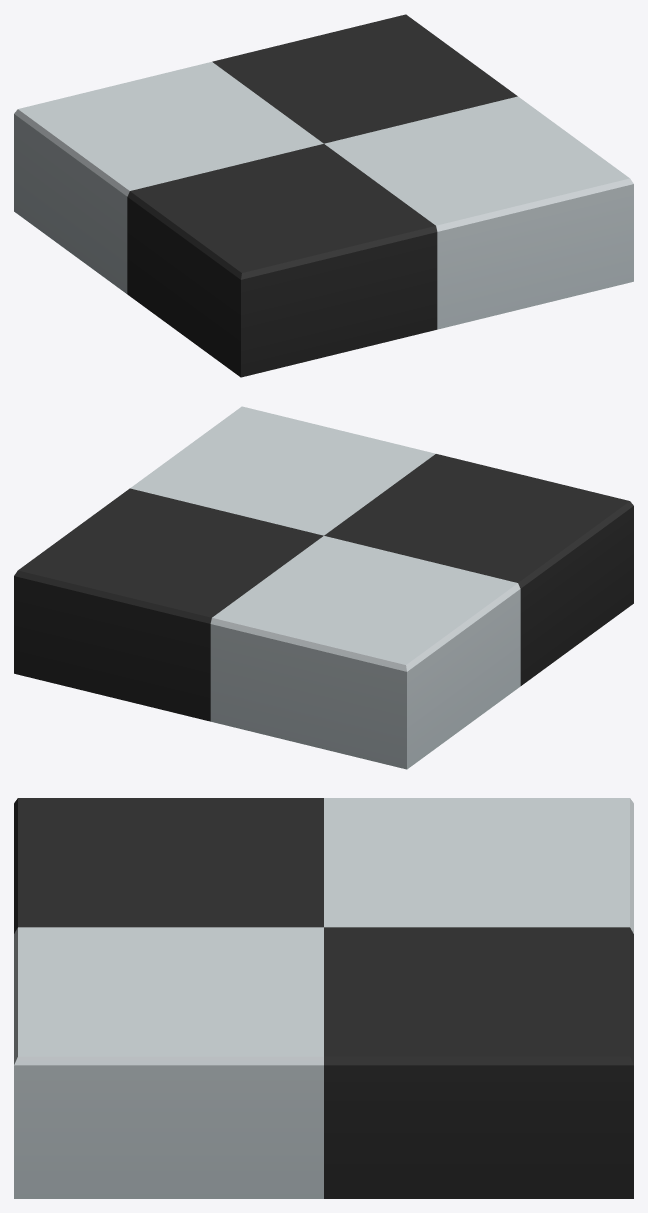
File: floor_kitchen_small.obj
3 views of the same model, one above another, from view 1: azimuth 30°, elevation 25°; view 2: azimuth 150°, elevation 25°; view 3: azimuth 270°, elevation 25° (orthographic). The views are drawn at different scales.
Visible parts, largest first — view 1: floor_kitchen_small_Plane.008; view 2: floor_kitchen_small_Plane.008; view 3: floor_kitchen_small_Plane.008.
Boxes of the visible parts, box(x1,y1,x2,y2) form: floor_kitchen_small_Plane.008: box(14, 14, 633, 377); floor_kitchen_small_Plane.008: box(14, 406, 633, 769); floor_kitchen_small_Plane.008: box(14, 798, 633, 1198).
Size of the model in its own units: 2 by 0.5 by 2.
1 material, 1 textured.
